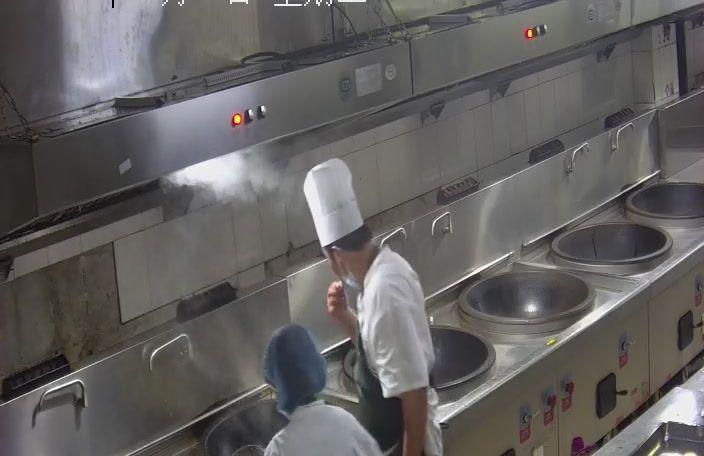mask: (322, 240, 364, 293)
